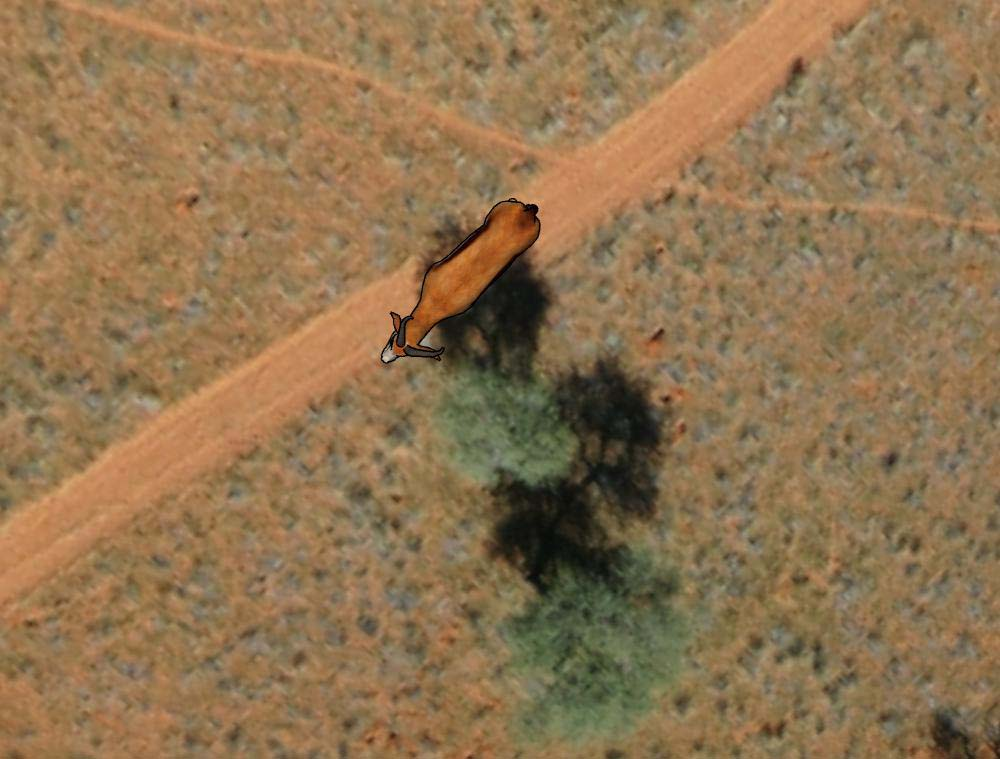springbok: (382, 195, 543, 371)
